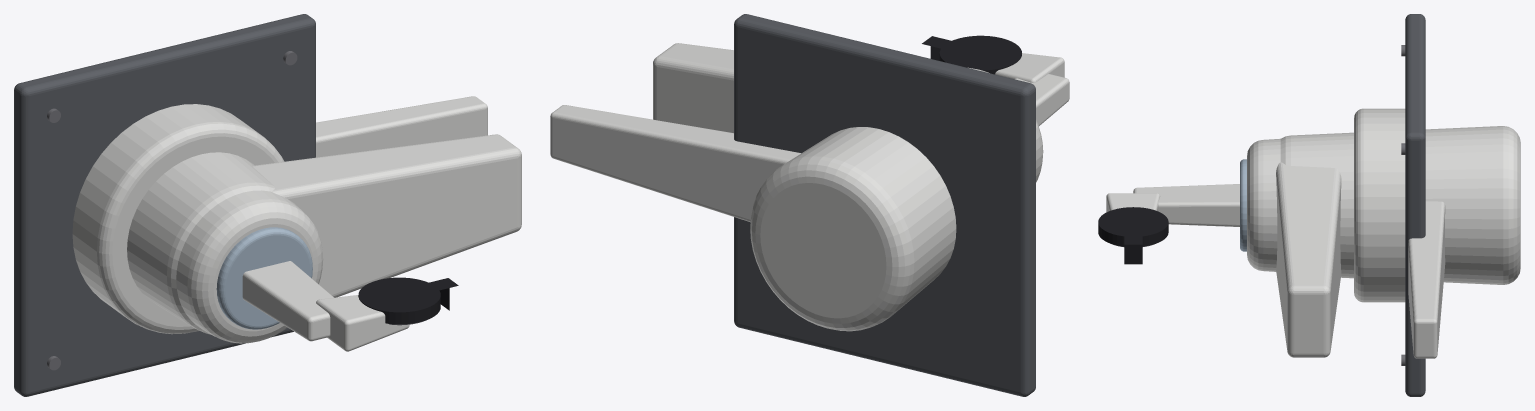
The model's file is arm.glb.
3 views of the same model, side by side, from view 1: azimuth 30°, elevation 25°; view 2: azimuth 150°, elevation 25°; view 3: azimuth 270°, elevation 25° (orthographic). The views are drawn at different scales.
Parts seen in each view (by area): view 1: b1, b3, b2, b5, b4; view 2: b1, b3, b4, b5; view 3: b3, b1, b5, b4, b2.
Boxes of the visible parts, left/top/right/bottom form: b1: left=14, top=14, right=315, bottom=396; b3: left=127, top=134, right=521, bottom=334; b2: left=176, top=190, right=323, bottom=343; b5: left=242, top=261, right=458, bottom=351; b4: left=316, top=96, right=487, bottom=157; b1: left=734, top=14, right=1035, bottom=396; b3: left=653, top=43, right=956, bottom=331; b4: left=550, top=105, right=800, bottom=222; b5: left=922, top=35, right=1069, bottom=125; b3: left=1276, top=126, right=1520, bottom=357; b1: left=1354, top=14, right=1425, bottom=396; b5: left=1098, top=184, right=1239, bottom=264; b4: left=1408, top=201, right=1445, bottom=358; b2: left=1240, top=138, right=1280, bottom=271.
Bounding box in the file's own units: 0.408 × 0.2559 × 0.3713.
